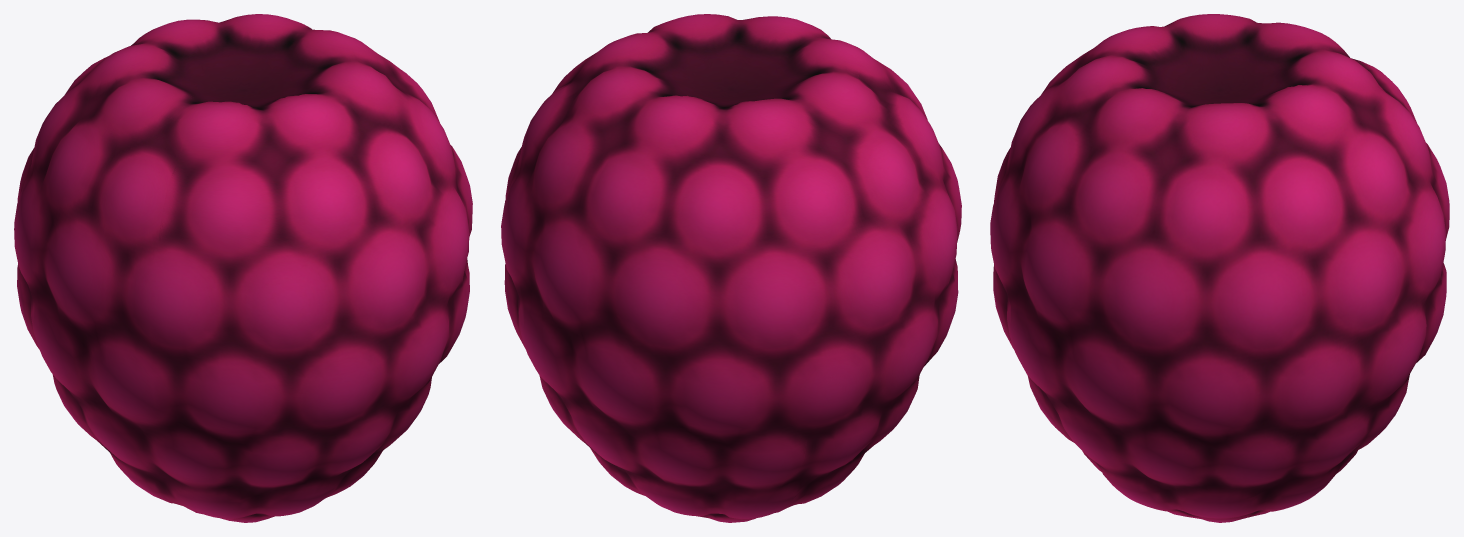
Rendered from raspberry.fbx.
The picture shows the model from 3 angles, left to right: view 1: azimuth 30°, elevation 25°; view 2: azimuth 150°, elevation 25°; view 3: azimuth 270°, elevation 25°; orthographic projection.
Visible parts, largest first — view 1: Group1; view 2: Group1; view 3: Group1.
Boxes of the visible parts, x1,y1,x2,y2 form: Group1: [14, 14, 472, 522]; Group1: [501, 14, 961, 522]; Group1: [990, 14, 1449, 522].
Bounding box in the file's own units: 190 × 203 × 190.
Materials: 1 (1 with a texture image).
